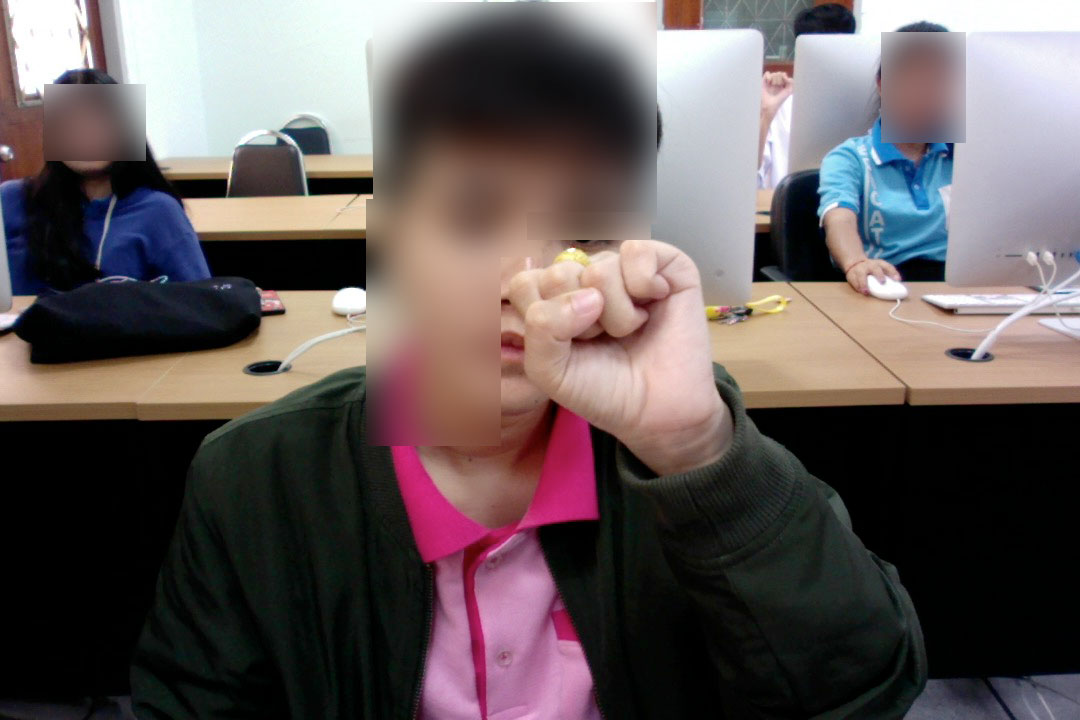sor: (504, 228, 726, 472)
